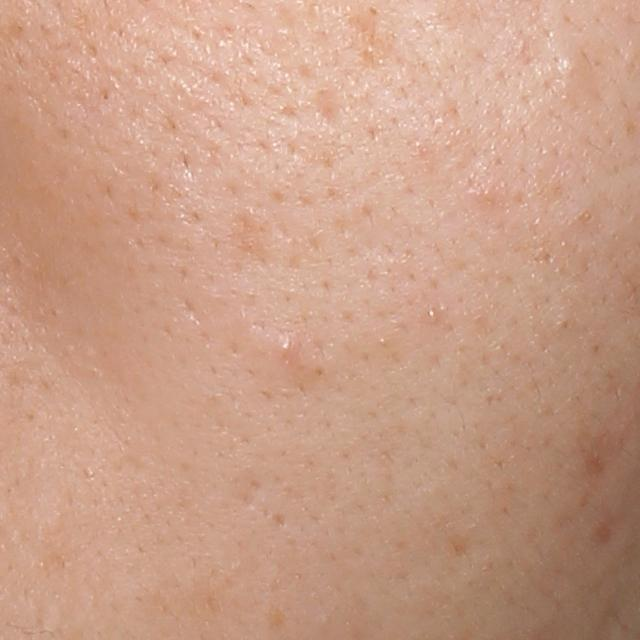atrophic_scar: (313, 88, 344, 129)
comedo: (272, 327, 304, 365), (554, 56, 581, 81), (421, 304, 441, 325)
